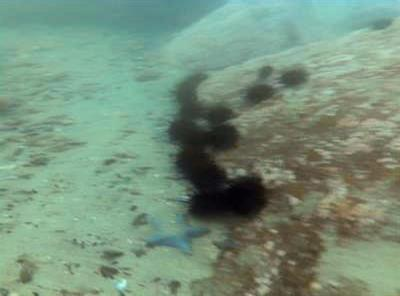urchin: (226, 171, 268, 212), (166, 118, 207, 148), (190, 158, 228, 188), (189, 188, 226, 214), (207, 123, 242, 150), (177, 147, 210, 171), (278, 67, 311, 90), (246, 82, 280, 100), (207, 105, 232, 124)
